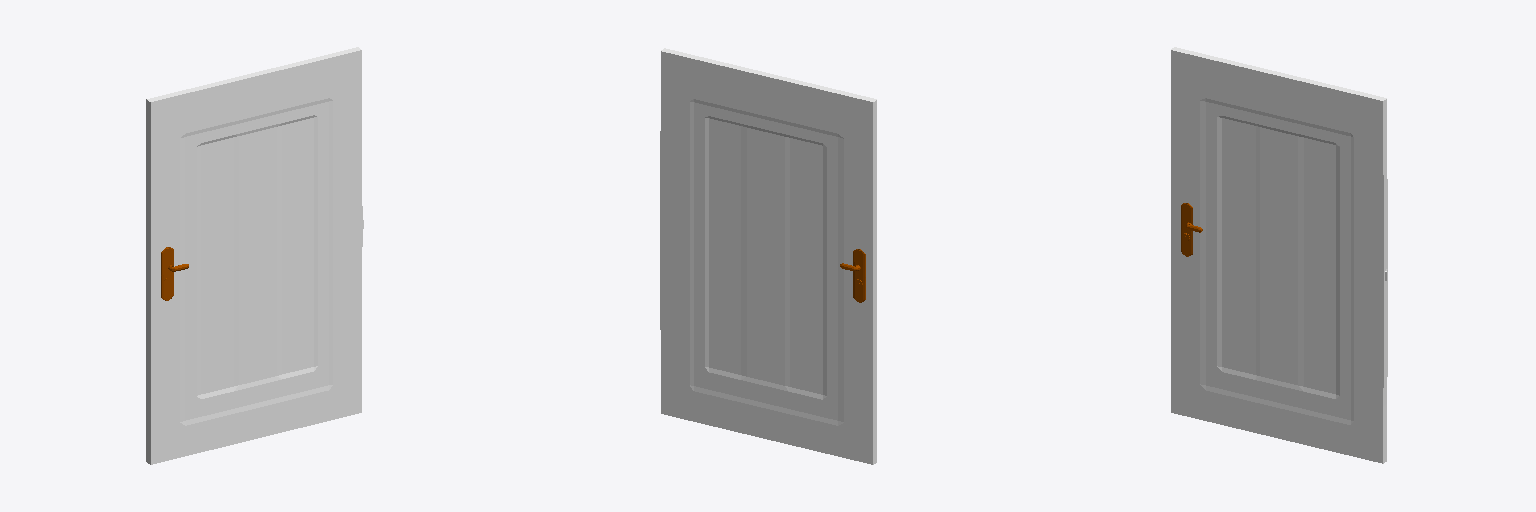
3 views of the same model, side by side, from view 1: azimuth 30°, elevation 25°; view 2: azimuth 150°, elevation 25°; view 3: azimuth 330°, elevation 25° (orthographic).
Size of the model in its own units: 9.43 by 15.19 by 0.9515.
1 materials, 1 textured.